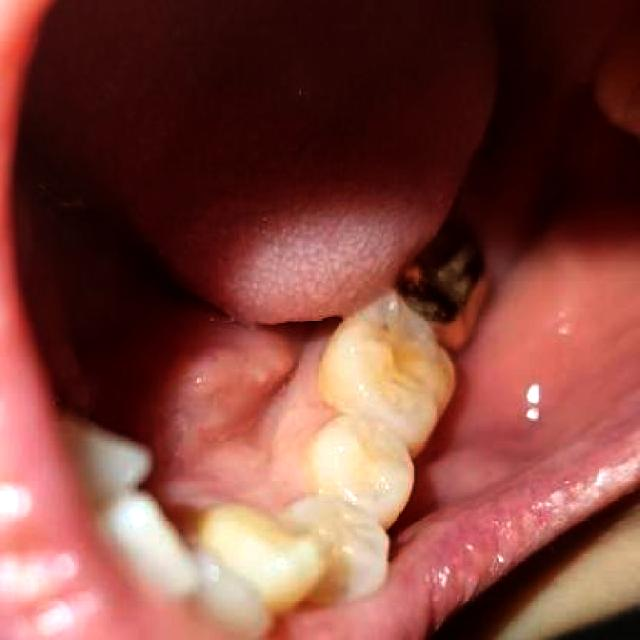Plaque: (373, 319, 395, 340)
